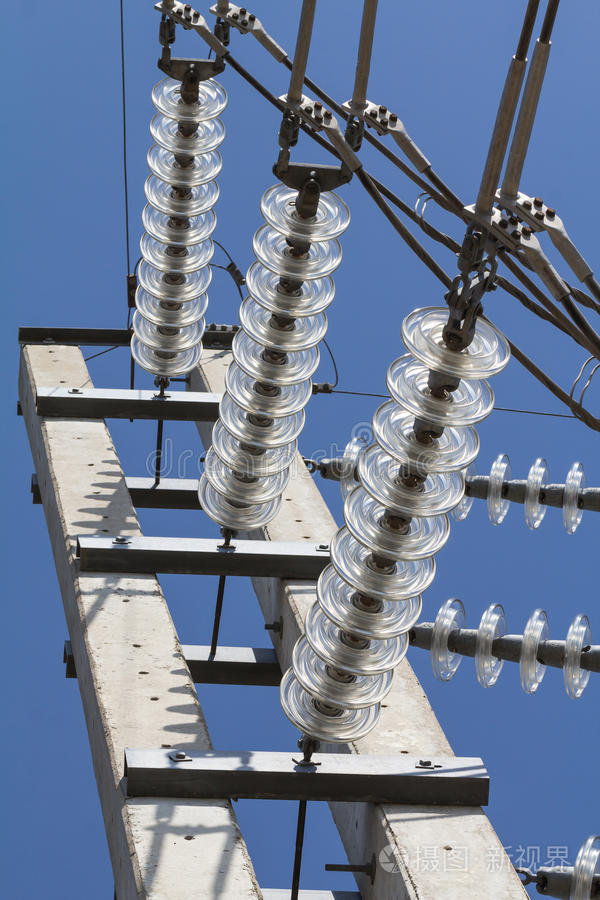insulator: (287, 307, 507, 746), (199, 179, 347, 525), (131, 74, 230, 374), (420, 588, 599, 703), (479, 448, 600, 532)
